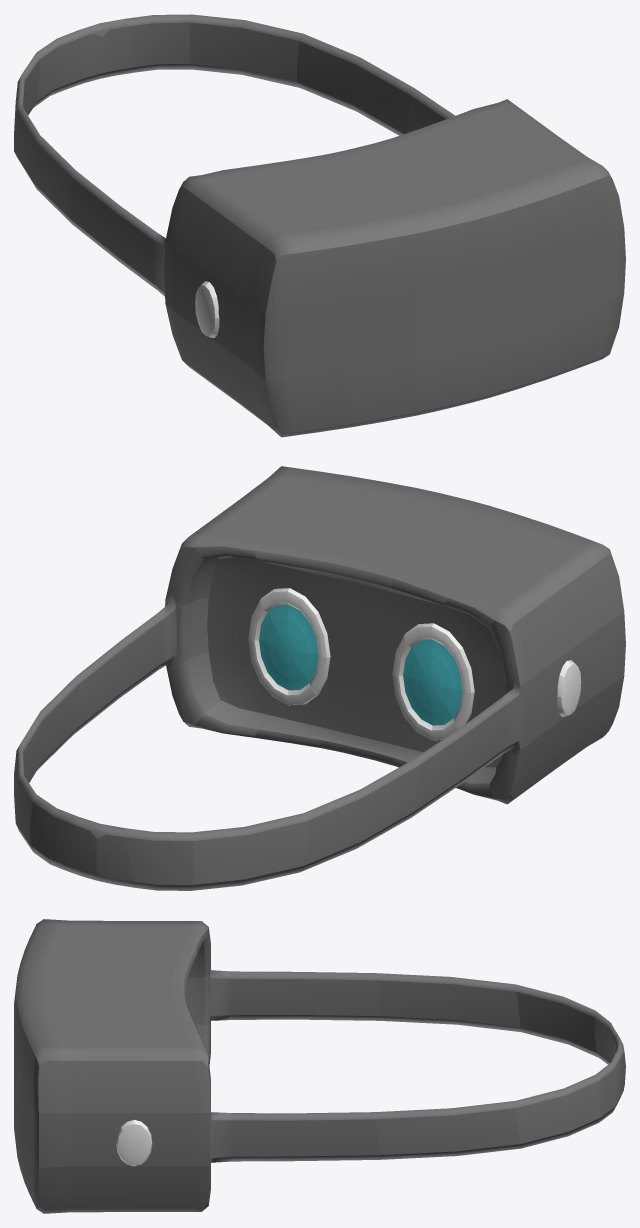
Rendered from hmd.glb.
3 views of the same model, one above another, from view 1: azimuth 30°, elevation 25°; view 2: azimuth 150°, elevation 25°; view 3: azimuth 270°, elevation 25° (orthographic). The views are drawn at different scales.
Parts seen in each view (by area): view 1: High-end_headset_01_Cube.027; view 2: High-end_headset_01_Cube.027; view 3: High-end_headset_01_Cube.027.
Part boxes in pixels (x1,y1,x2,y2): High-end_headset_01_Cube.027: (14, 14, 625, 437); High-end_headset_01_Cube.027: (14, 466, 625, 890); High-end_headset_01_Cube.027: (14, 919, 625, 1213).
Bounding box in the file's own units: 42.08 × 21.05 × 71.74.
